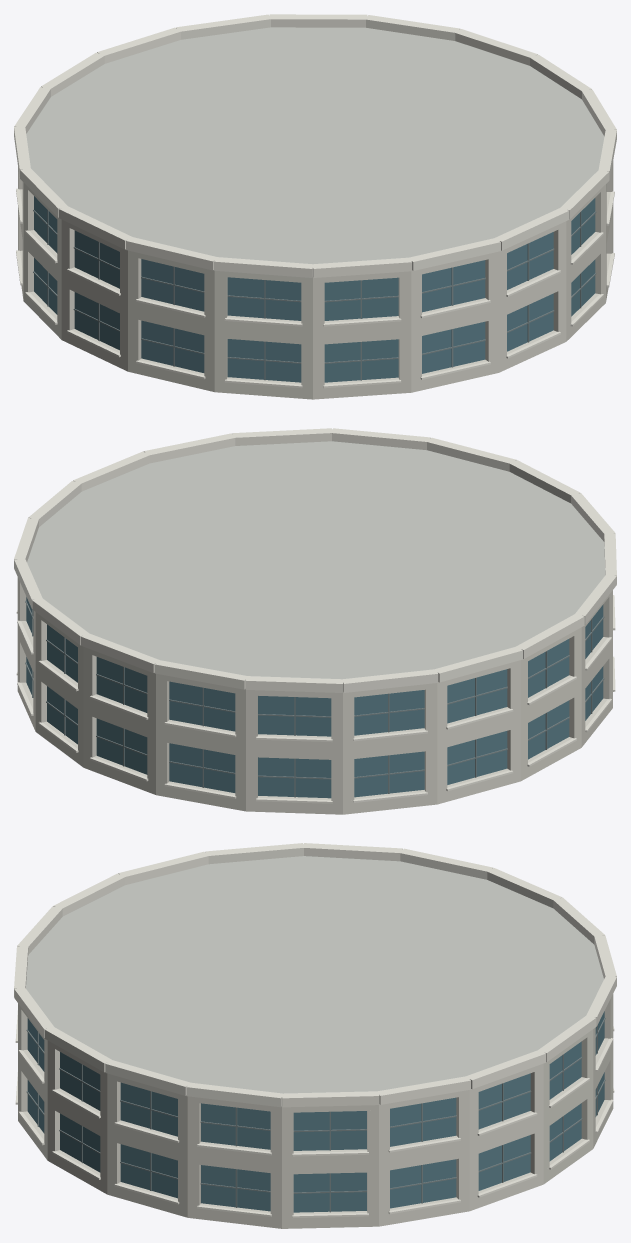
3 renders of one model, top to bottom at view 1: azimuth 30°, elevation 25°; view 2: azimuth 150°, elevation 25°; view 3: azimuth 270°, elevation 25°, orthographic.
Visible parts, largest first — view 1: roof, wall, glass, trim, metal; view 2: roof, wall, glass, trim, metal; view 3: roof, wall, glass, trim, metal.
Boxes of the visible parts, <box> form: roof: <box>26,27,604,264</box>; wall: <box>18,161,613,399</box>; glass: <box>34,196,595,382</box>; trim: <box>14,14,616,388</box>; metal: <box>33,209,596,380</box>; roof: <box>27,441,605,679</box>; wall: <box>17,577,612,814</box>; glass: <box>26,597,603,798</box>; trim: <box>14,428,616,803</box>; metal: <box>25,600,604,797</box>; roof: <box>26,856,603,1093</box>; wall: <box>18,994,613,1228</box>; glass: <box>27,1011,604,1212</box>; trim: <box>14,843,616,1217</box>; metal: <box>26,1018,605,1212</box>.
Size of the model in its own units: 26.66 by 6.44 by 26.61.
